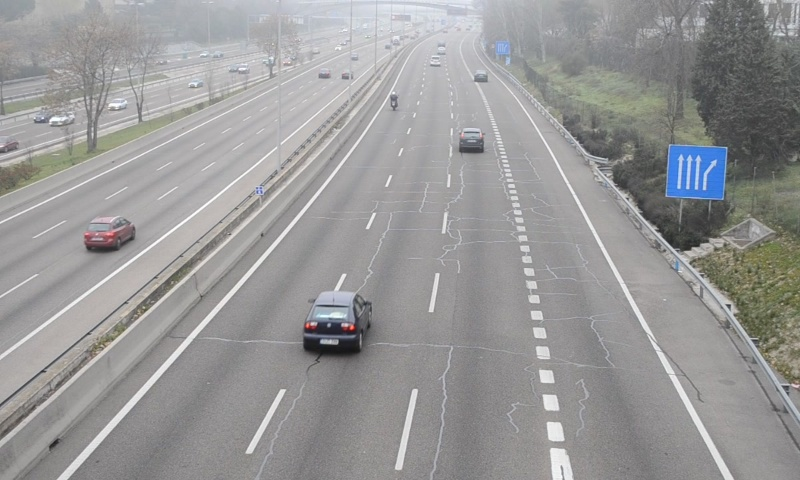car: (302, 292, 373, 352), (458, 128, 485, 154), (473, 70, 488, 82)
motorcycle: (388, 91, 398, 114)
